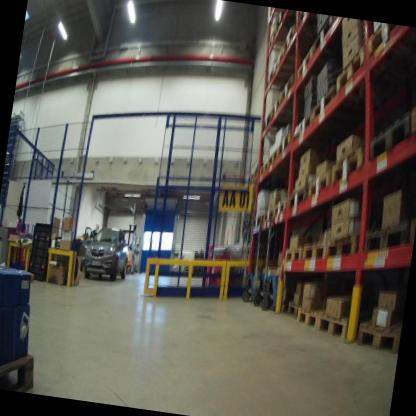forklift: (117, 222, 137, 277)
pallet: (318, 233, 361, 342), (332, 45, 372, 103), (368, 113, 412, 162), (361, 214, 406, 260), (356, 313, 402, 356), (366, 23, 406, 63), (330, 142, 365, 186), (311, 86, 341, 125), (310, 22, 337, 54), (302, 236, 327, 269), (291, 114, 316, 146), (294, 49, 318, 81), (297, 304, 321, 331), (288, 185, 309, 215), (308, 172, 332, 198), (281, 242, 305, 266), (283, 296, 301, 322), (409, 84, 416, 136), (405, 216, 416, 249)
pallet_truck: (256, 220, 288, 313), (246, 221, 268, 306), (237, 224, 258, 302)
